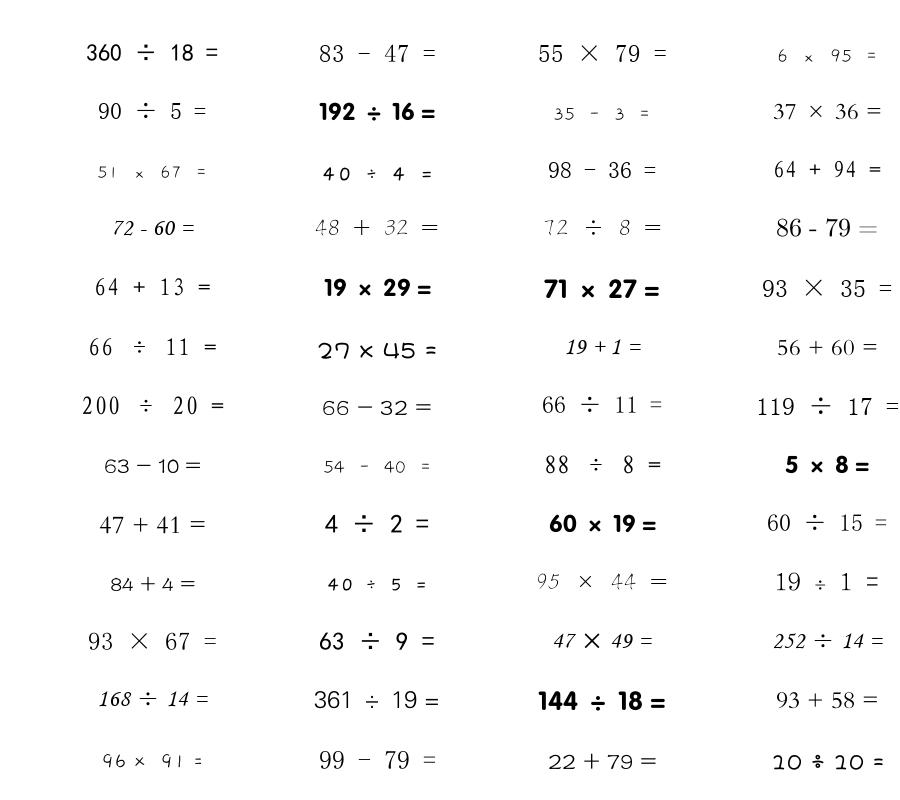MQ: (81, 396, 224, 415), (756, 397, 899, 415), (538, 691, 666, 711), (314, 690, 440, 709), (86, 44, 218, 62), (762, 279, 892, 297), (88, 338, 217, 356), (88, 632, 217, 650), (544, 279, 660, 299), (536, 573, 668, 590), (544, 455, 661, 474), (319, 102, 435, 121), (538, 45, 667, 62), (315, 219, 439, 236), (319, 44, 436, 62), (94, 278, 211, 296), (319, 751, 436, 769), (319, 632, 435, 650), (317, 342, 437, 359), (542, 396, 662, 413), (767, 514, 887, 531), (324, 278, 431, 297), (549, 514, 656, 533), (543, 219, 662, 236), (325, 514, 429, 533), (775, 572, 879, 591), (773, 160, 881, 178), (776, 218, 878, 237), (99, 516, 206, 534), (773, 103, 882, 120), (548, 753, 657, 770), (98, 102, 206, 119), (771, 754, 884, 770), (772, 633, 883, 649), (97, 691, 208, 707), (776, 692, 879, 709), (548, 162, 656, 178), (777, 339, 878, 356), (322, 400, 432, 415), (101, 753, 203, 769), (552, 633, 652, 649), (785, 455, 869, 474), (321, 167, 434, 181), (97, 165, 208, 179), (323, 460, 432, 474), (777, 49, 878, 63), (553, 107, 651, 121), (110, 576, 195, 592), (104, 459, 201, 473), (111, 220, 194, 236), (326, 578, 428, 591), (564, 339, 641, 355)
